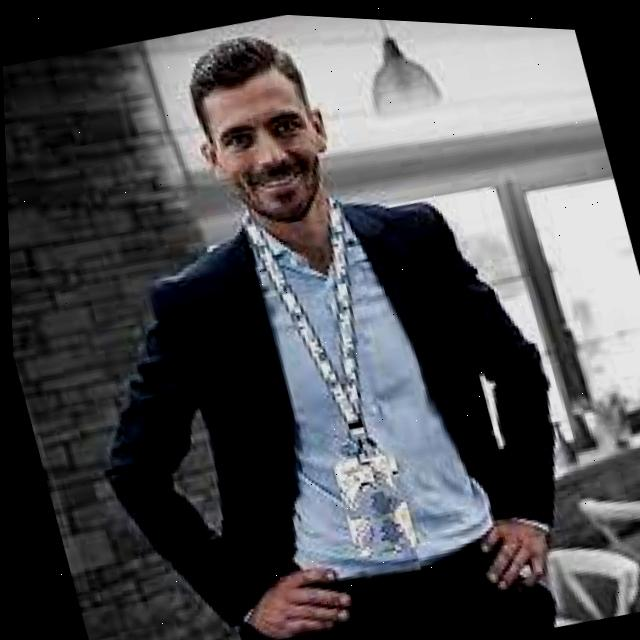id_card: (240, 210, 437, 578)
